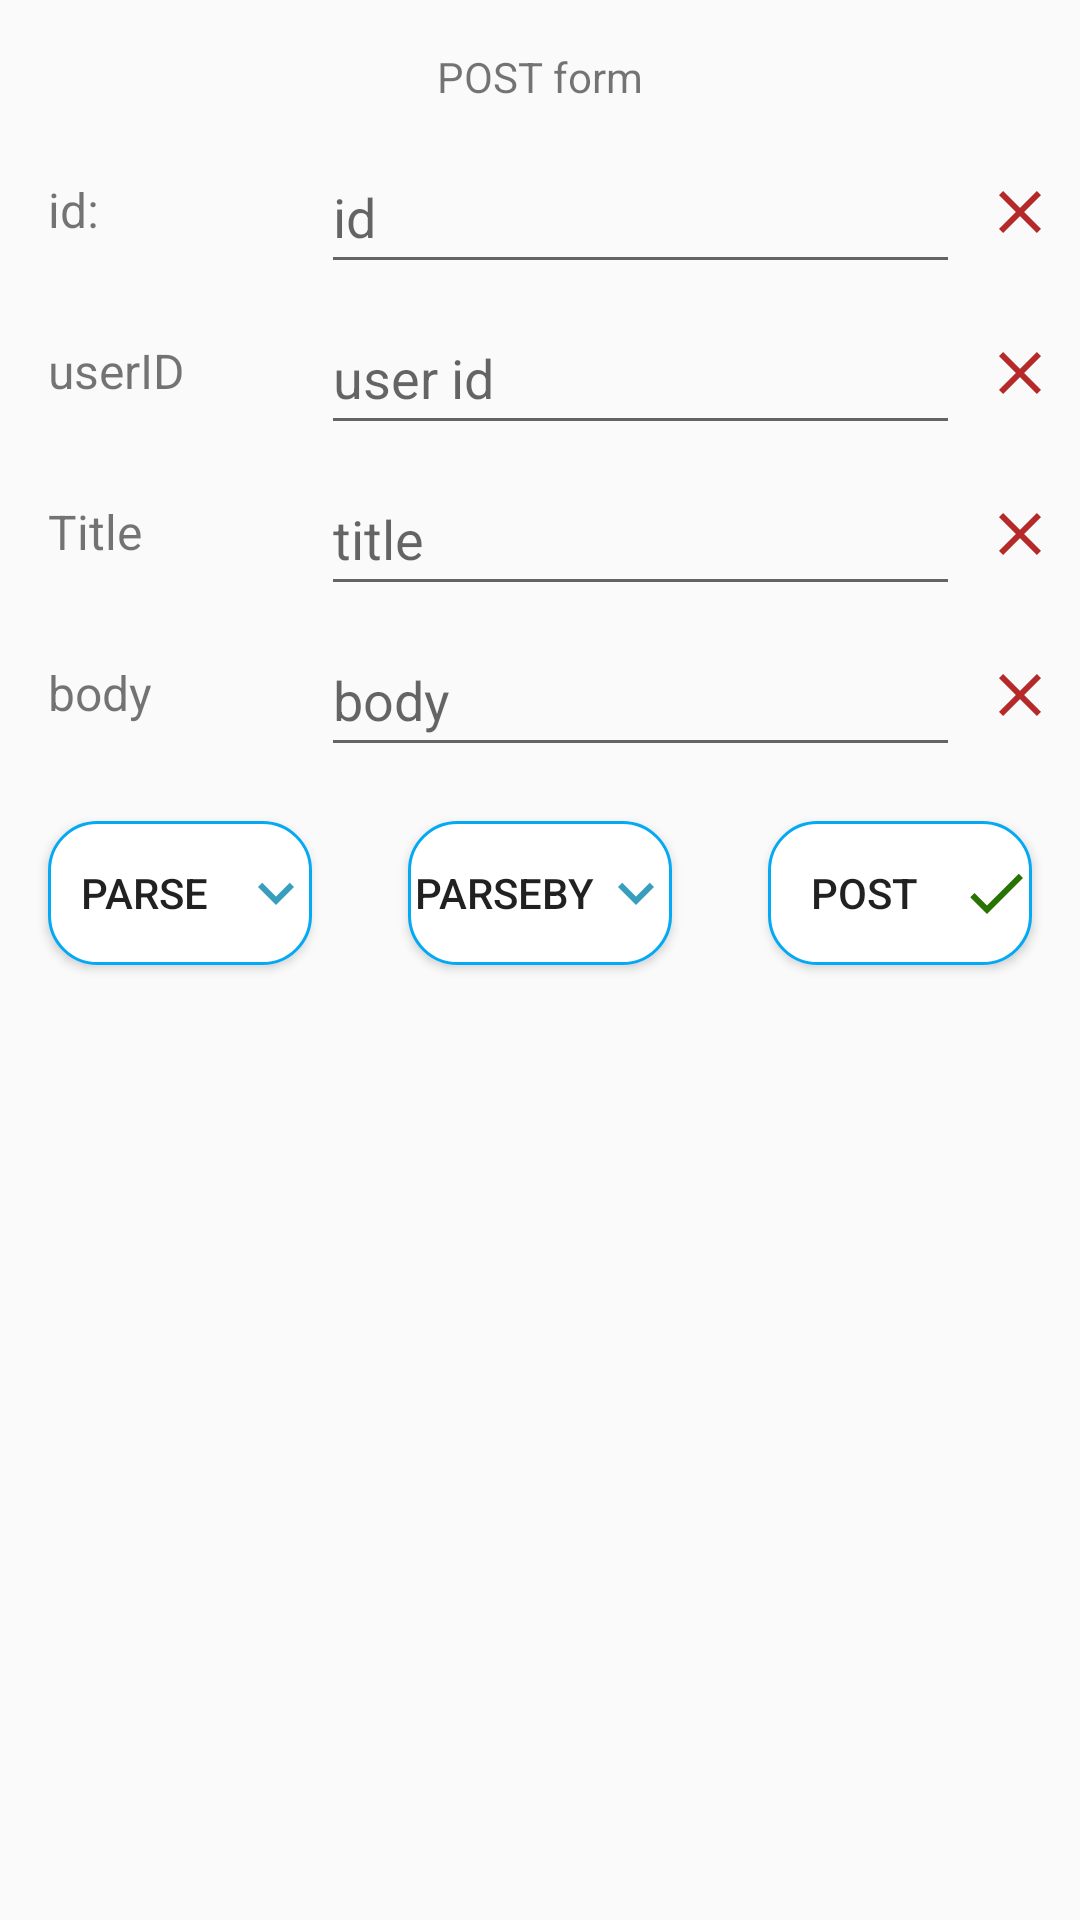

Screen size 1080w x 1920h. Icon name, then its center in pixels as point (x, y):
close: point (1020, 212), point (1020, 373), point (1020, 534), point (1020, 695)
